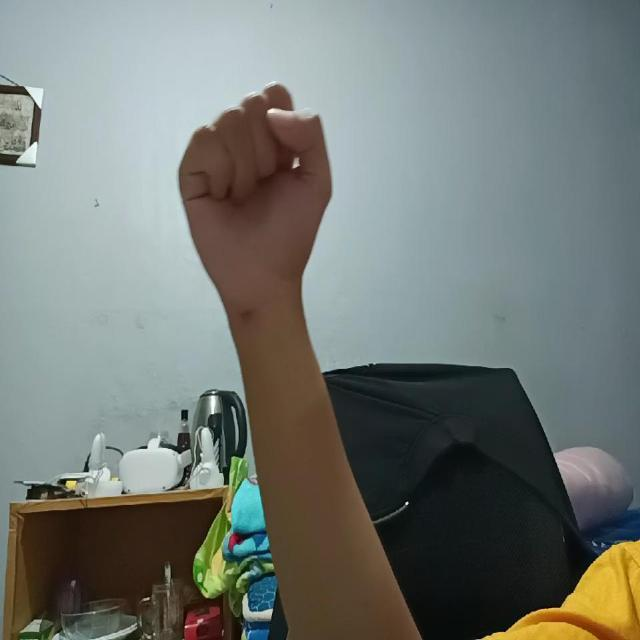fist: (171, 75, 334, 321)
